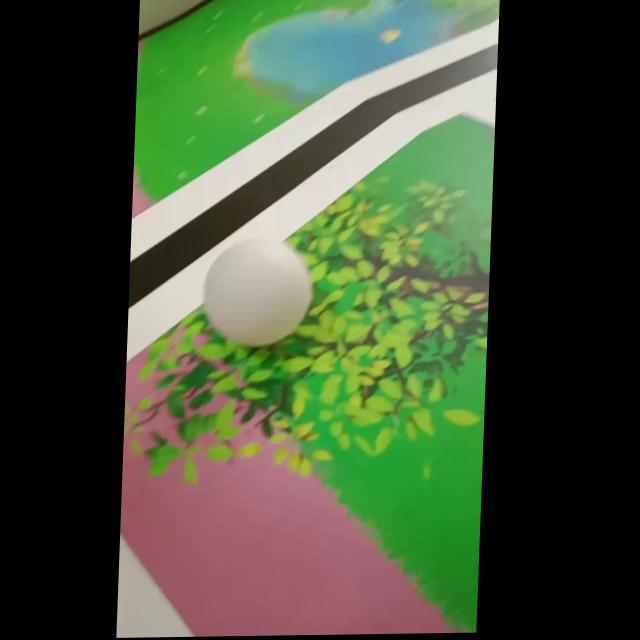white ball: (199, 236, 315, 348)
